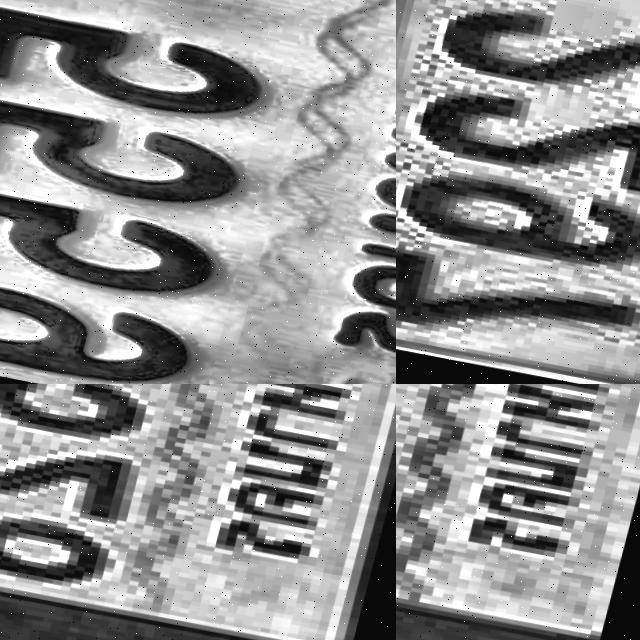license-plate: (0, 0, 396, 384), (0, 384, 396, 640), (396, 0, 640, 384), (396, 384, 640, 640)
